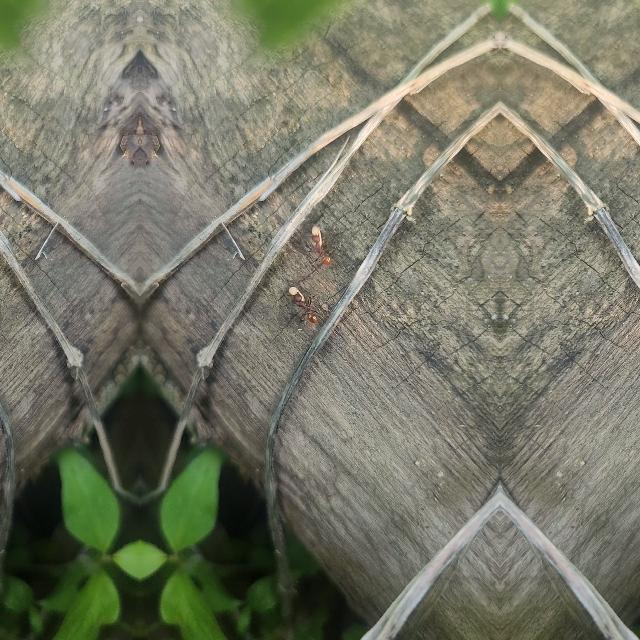Apheanogaster: (308, 218, 336, 274), (290, 281, 320, 331)
